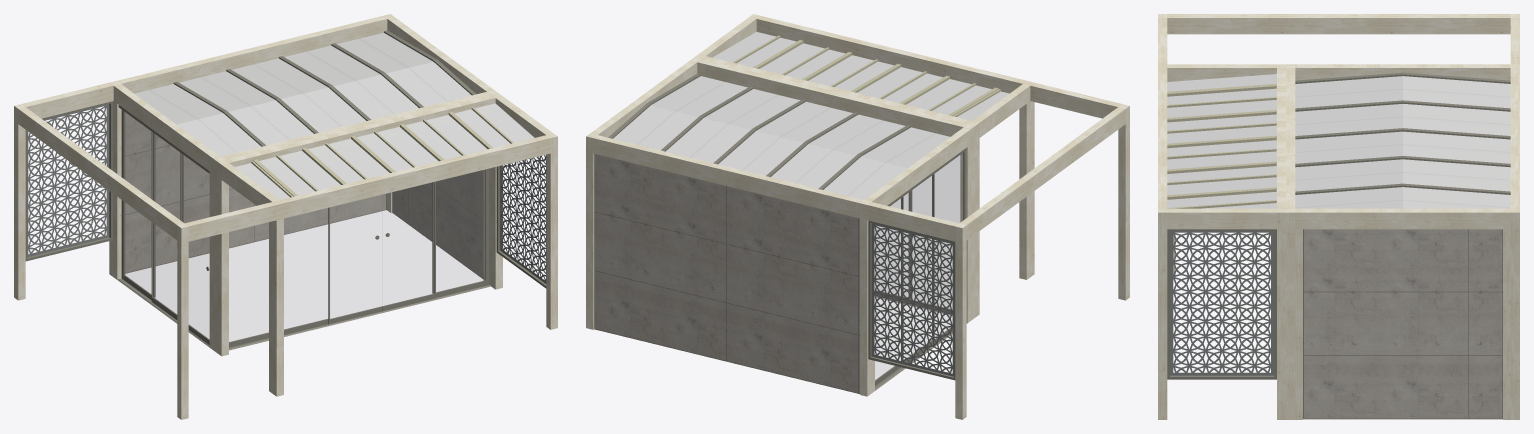
File: agp9_whitepine.fbx
3 views of the same model, side by side, from view 1: azimuth 30°, elevation 25°; view 2: azimuth 150°, elevation 25°; view 3: azimuth 270°, elevation 25° (orthographic). The views are drawn at different scales.
Visible parts, largest first — view 1: agp9_whitepine; view 2: agp9_whitepine; view 3: agp9_whitepine.
Boxes of the visible parts, box(x1,y1,x2,y2) form: agp9_whitepine: box(14, 14, 557, 419); agp9_whitepine: box(586, 14, 1129, 419); agp9_whitepine: box(1158, 14, 1519, 419).
Size of the model in its own units: 514 by 250 by 395.
Materials: 16 (11 with a texture image).
